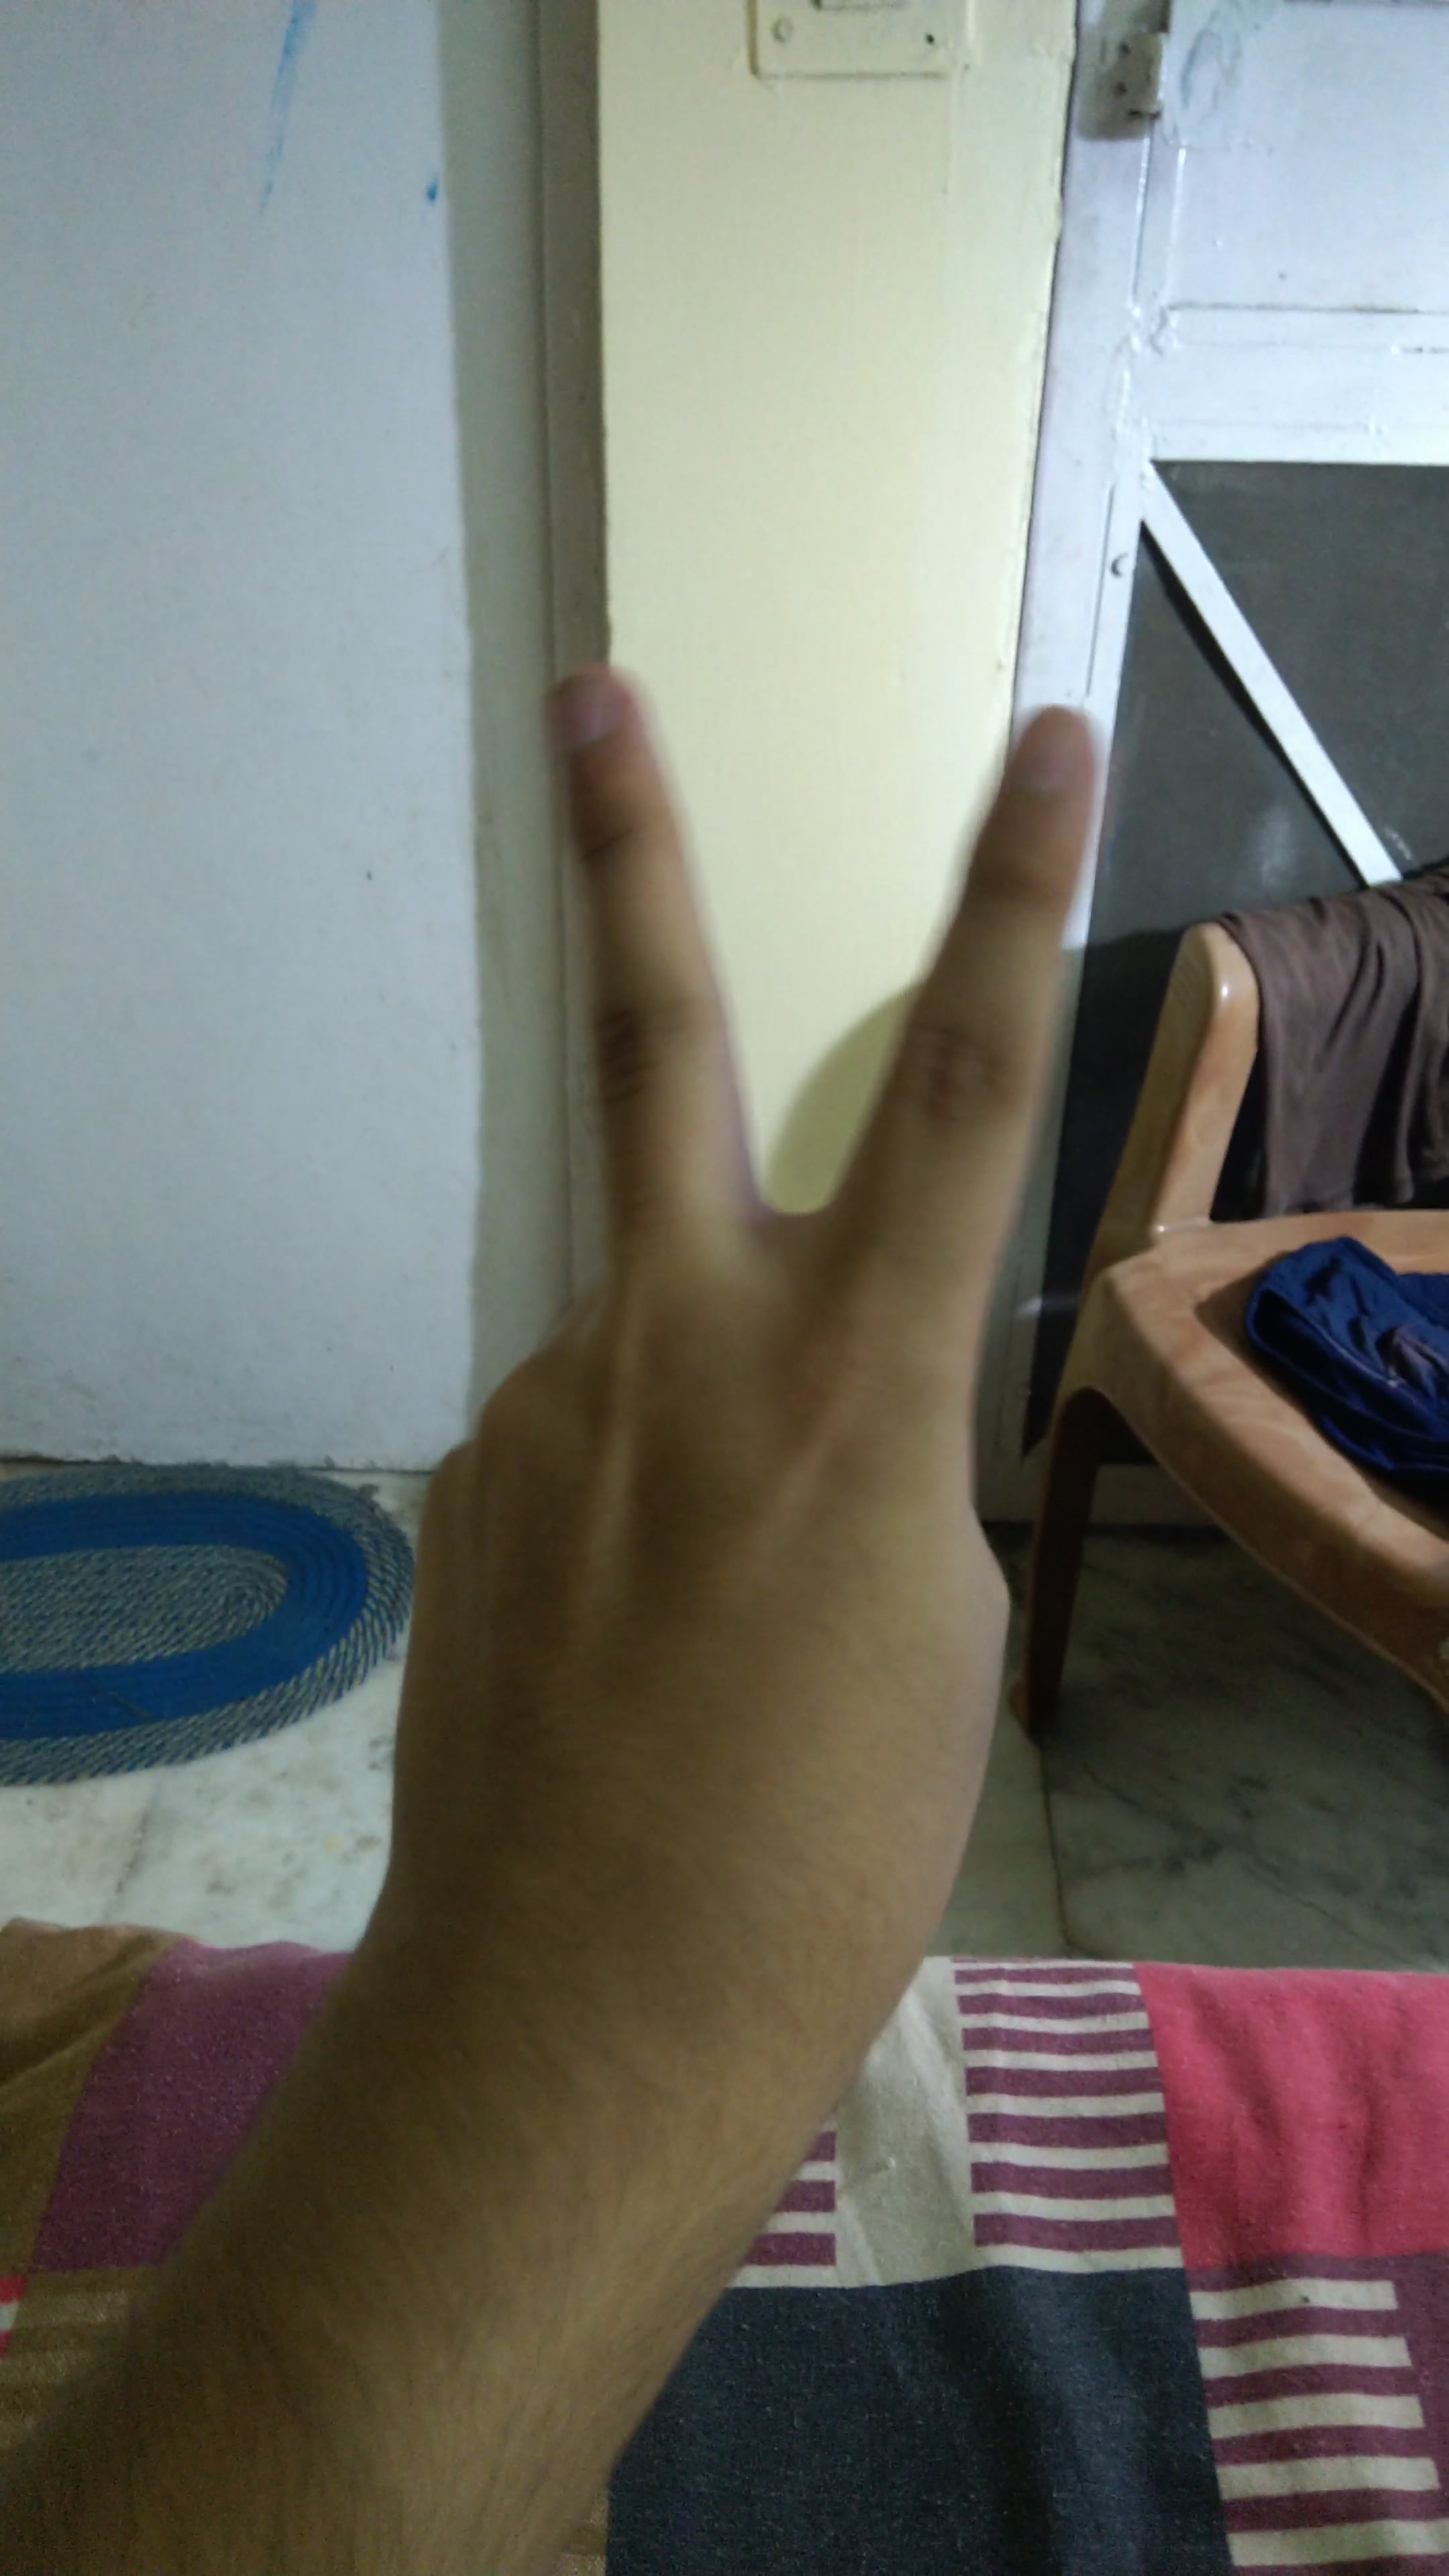hand: (272, 610, 1178, 2043)
